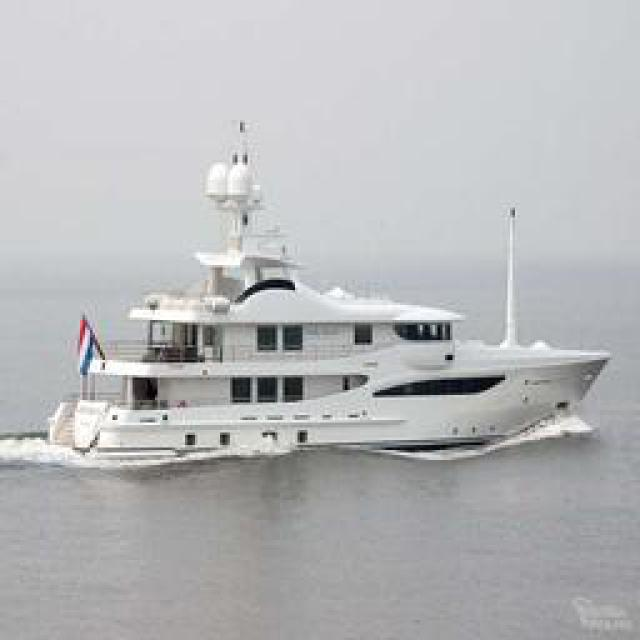Ship: (52, 161, 610, 456)
